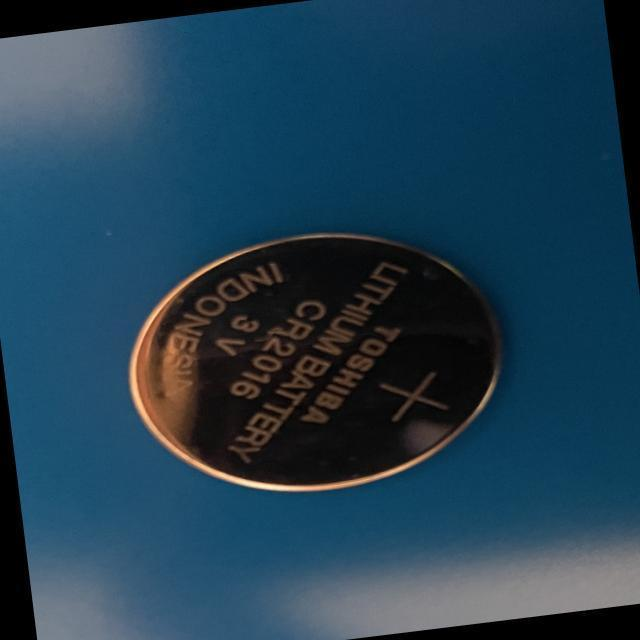COIN: (113, 210, 520, 512)
